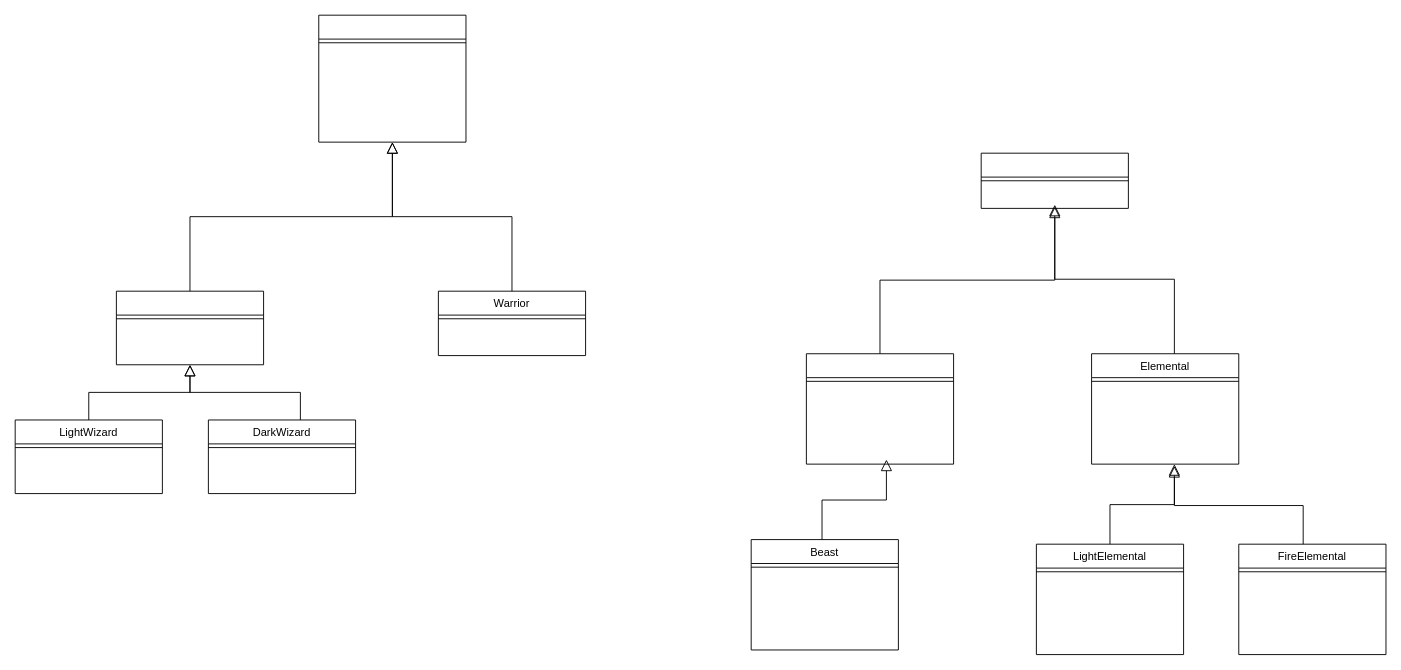
The diagram is 1401 pixels wide and 670 high, and some of its shapes have lost their labels. Here are the shapes that lost their labels. From the top down, the centre of each, then its label:
(x=392, y=78): WarCraftCharacter
(x=1054, y=180): Enemy
(x=189, y=327): Wizard
(x=879, y=408): Creature
